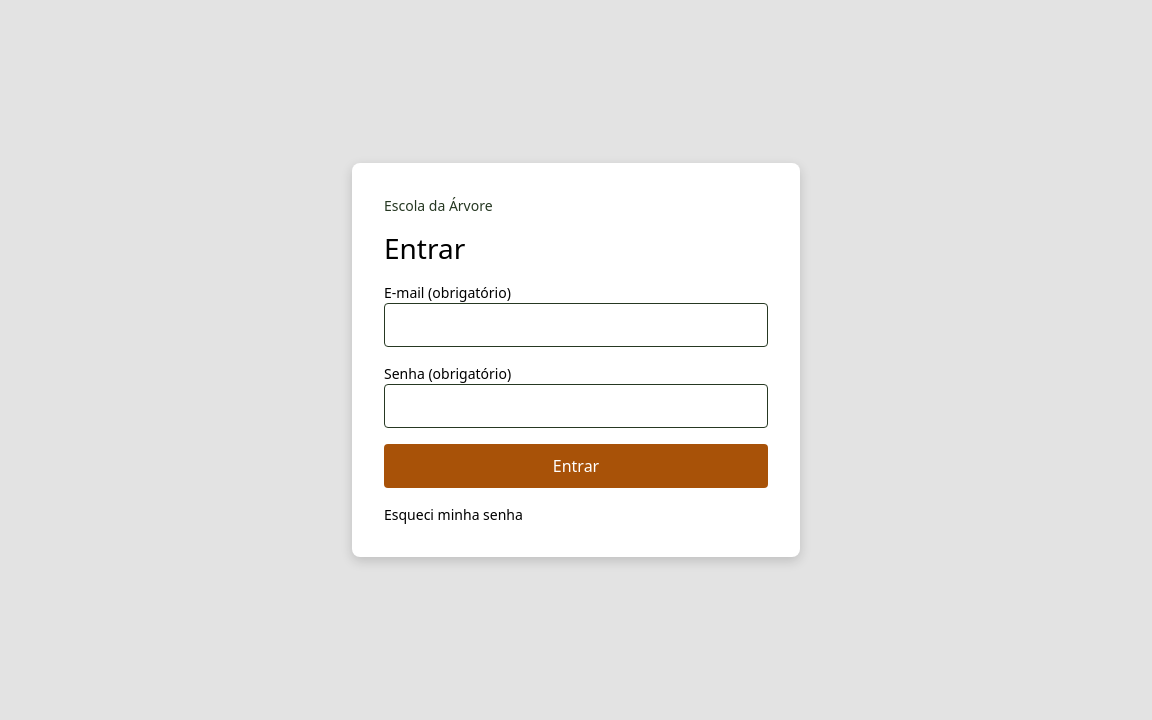
Test: US1 — visão ativa › alterna a visão em até 2 acionamentos e a escolha persiste no acesso seguinte
Type "multi@escola.local" into the field labelled "E-mail (obrigatório)". click: (576, 325)
box: left=384, top=303, right=768, bottom=347
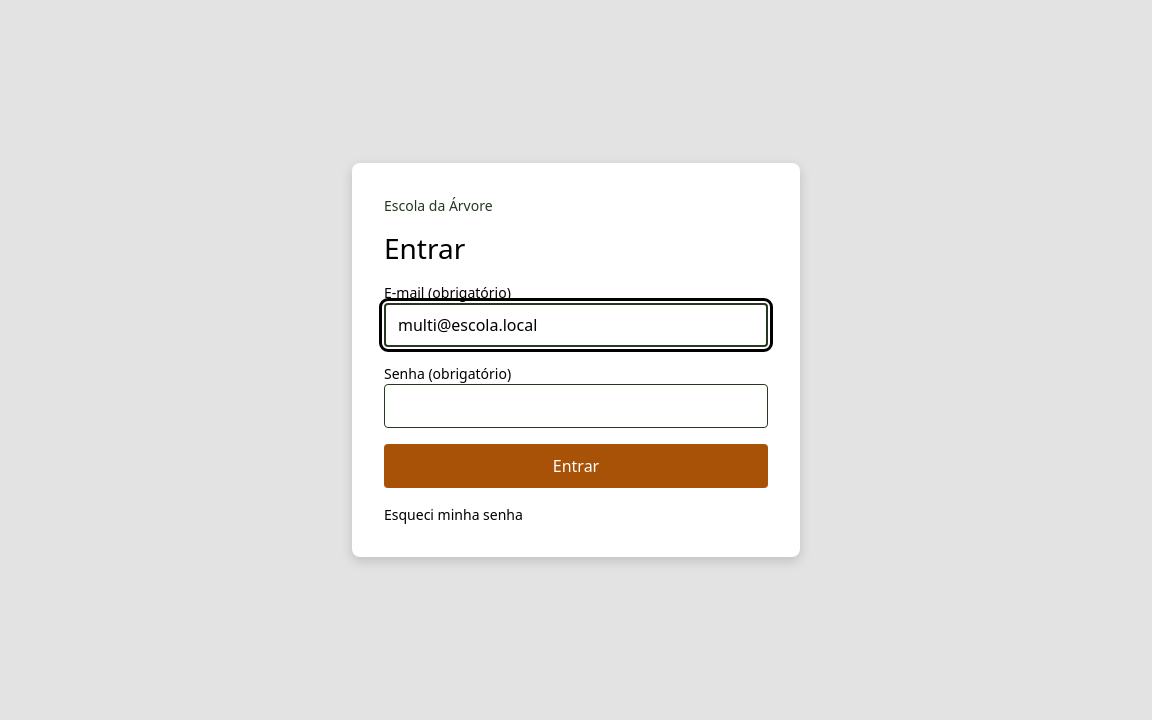
Type "senha123" into the password field labelled "Senha (obrigatório)". click: (576, 406)
box: left=384, top=384, right=768, bottom=428
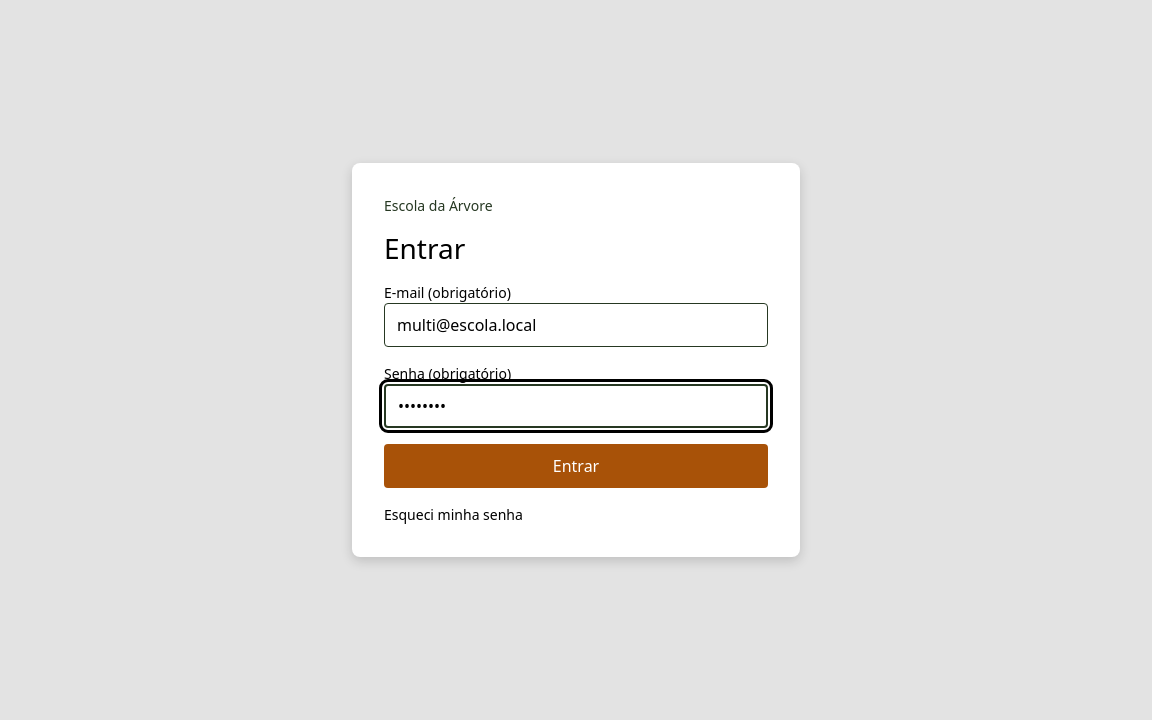
Click the button "Entrar". click: (576, 466)
box: left=384, top=444, right=768, bottom=488
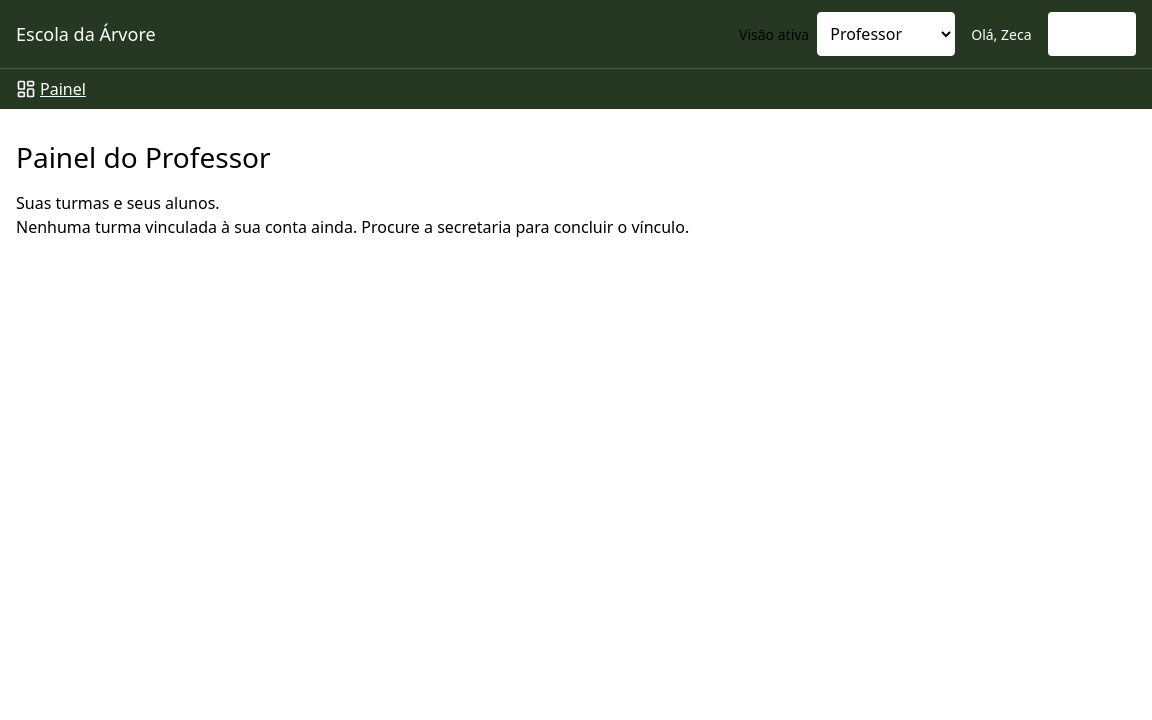
Now the heading "Painel do Professor" is shown, box left=16, top=138, right=271, bottom=176
Select "Coordenação" in the dropdown labelled "Visão ativa". click: (886, 34)
box: left=817, top=12, right=955, bottom=56
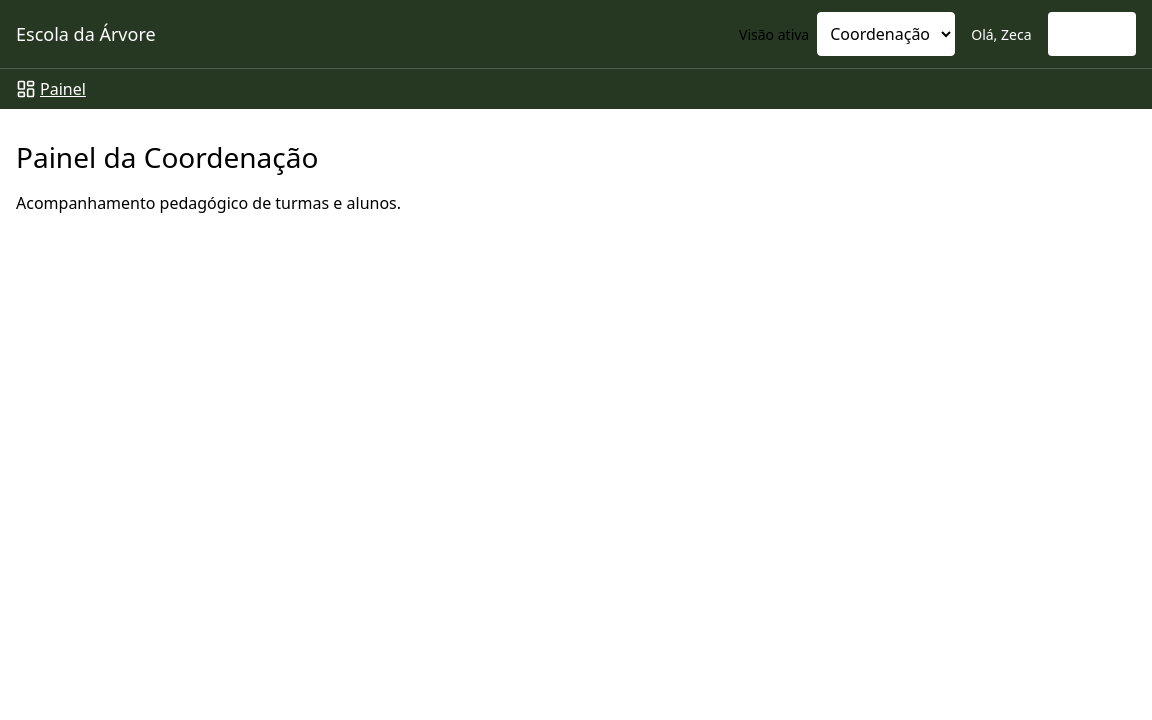
Now the heading "Painel da Coordenação" is shown, box left=16, top=138, right=318, bottom=176
